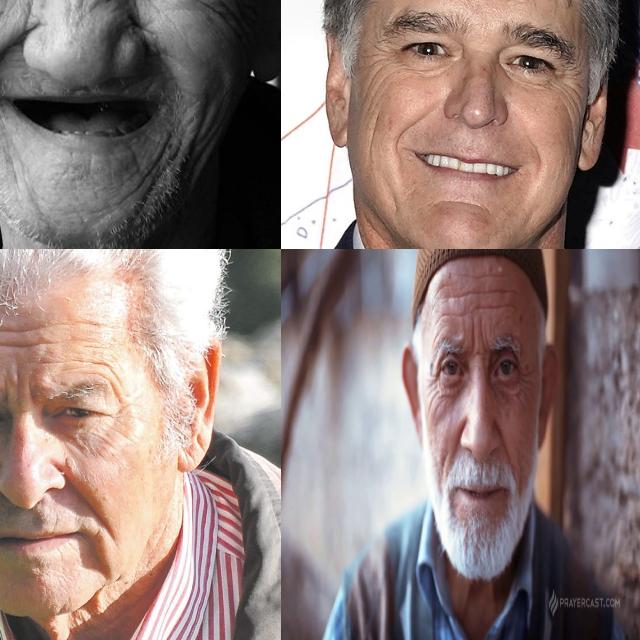bunny_line: (66, 0, 101, 16)
chin: (136, 140, 178, 198), (437, 196, 487, 214), (388, 187, 404, 216)
crows_feet: (370, 41, 398, 83), (553, 68, 579, 100), (519, 366, 531, 394), (428, 371, 439, 401)
forehead: (0, 322, 52, 354), (94, 354, 126, 398), (442, 285, 468, 304), (436, 308, 465, 325), (493, 281, 512, 302), (466, 268, 488, 286), (482, 297, 503, 314), (472, 283, 488, 302)
frown_line: (0, 372, 40, 406), (478, 322, 487, 354), (469, 324, 478, 352)
gummy_smile: (68, 480, 104, 528), (0, 34, 26, 91), (389, 116, 416, 148), (528, 139, 546, 173), (496, 420, 511, 458), (454, 417, 465, 452)
masseter: (184, 102, 214, 162), (363, 109, 382, 159)
